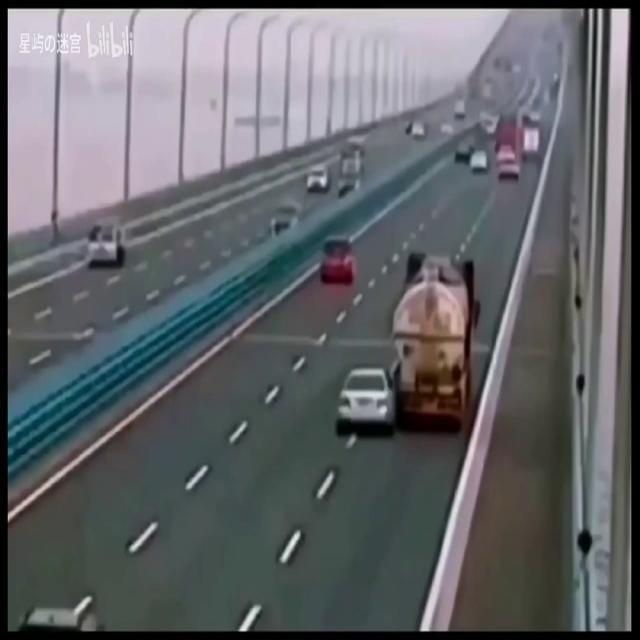accident: (336, 256, 476, 436)
non-accident: (268, 204, 356, 284), (454, 114, 544, 182), (269, 167, 329, 246), (303, 140, 365, 200), (452, 142, 490, 176)
